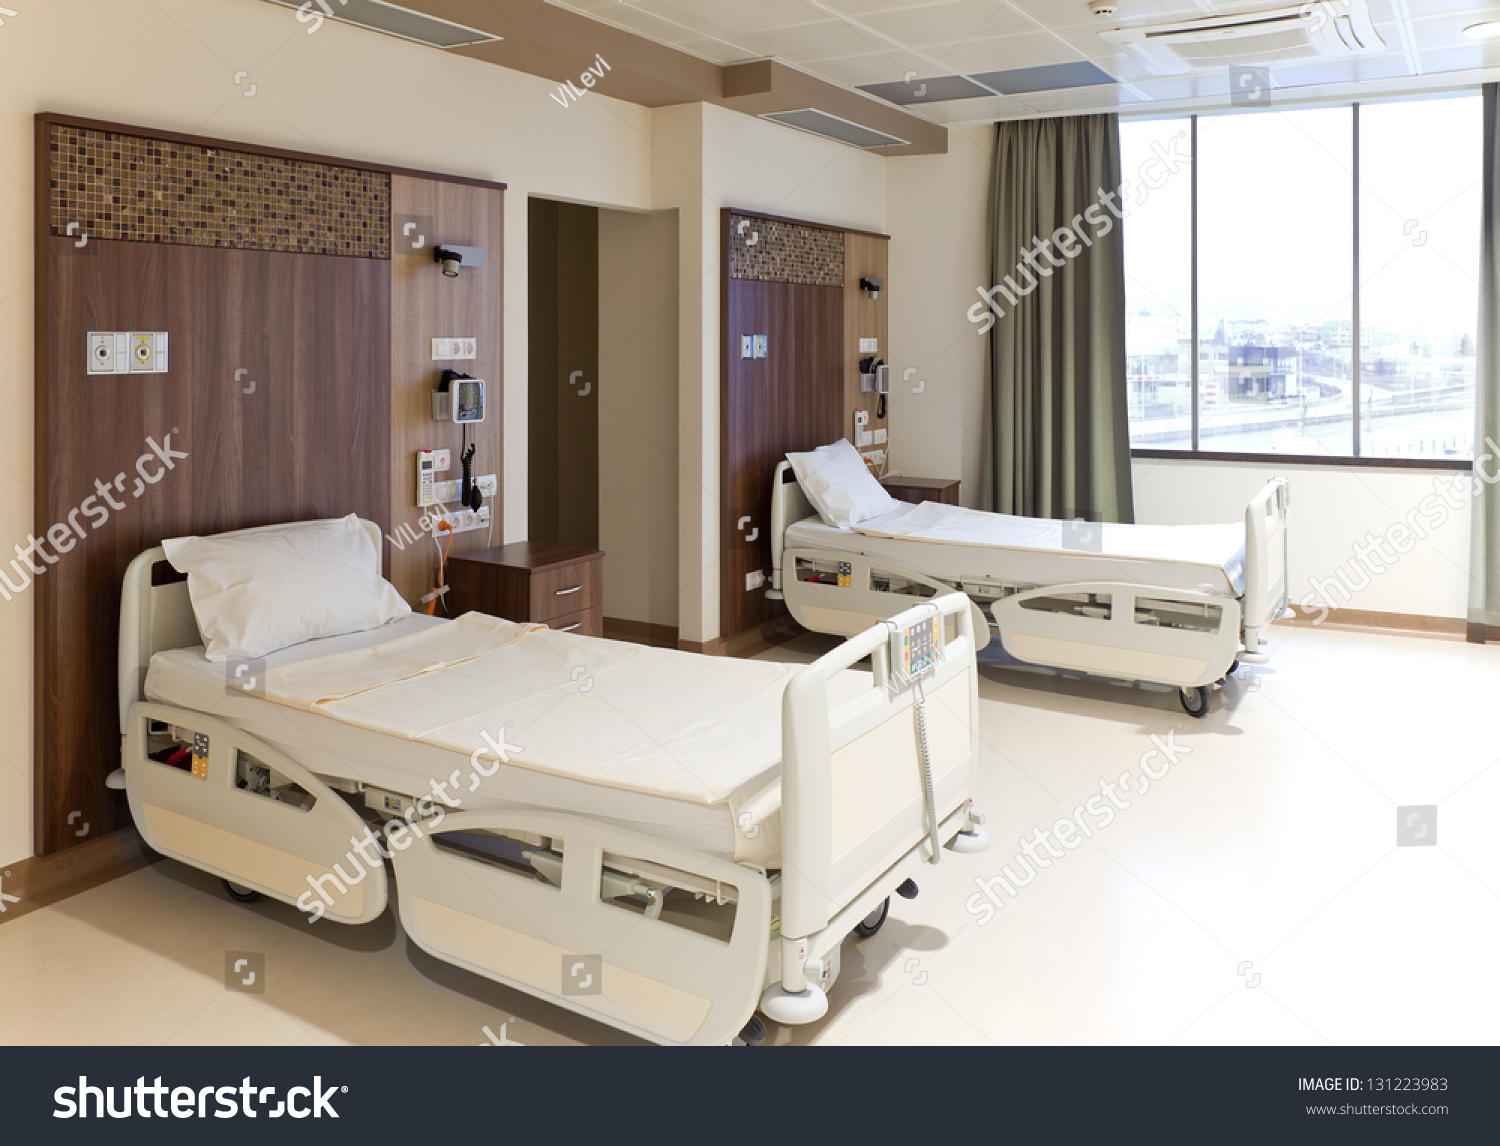hospital bed: (114, 509, 1002, 923), (736, 444, 1325, 630)
